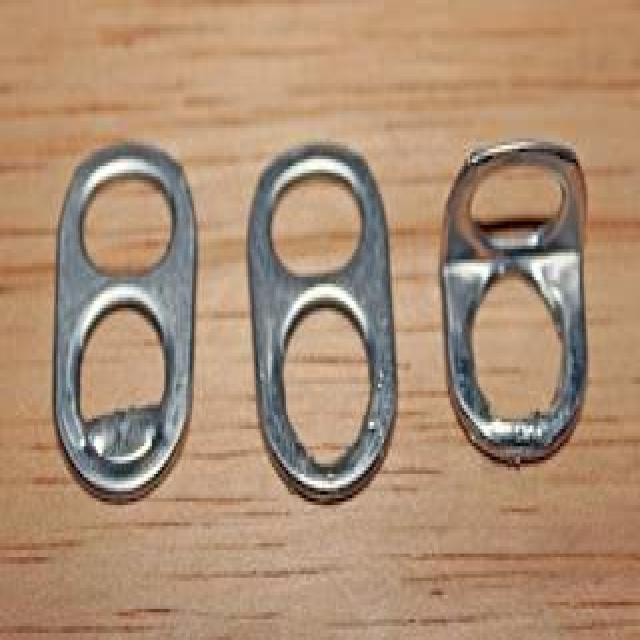pop tab: (246, 142, 399, 507), (50, 138, 199, 506), (438, 142, 588, 470)
